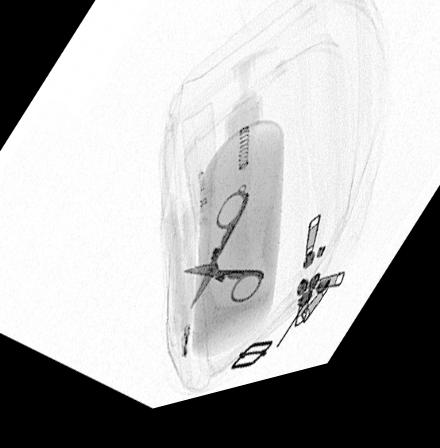Scissors: (180, 201, 265, 324)
